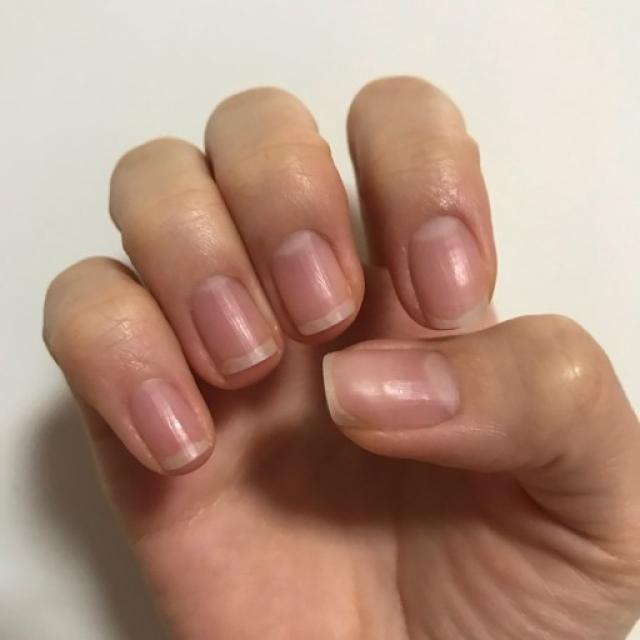Nail: (322, 341, 460, 429), (408, 216, 488, 328), (272, 230, 356, 336), (191, 275, 278, 375), (130, 378, 212, 471)
